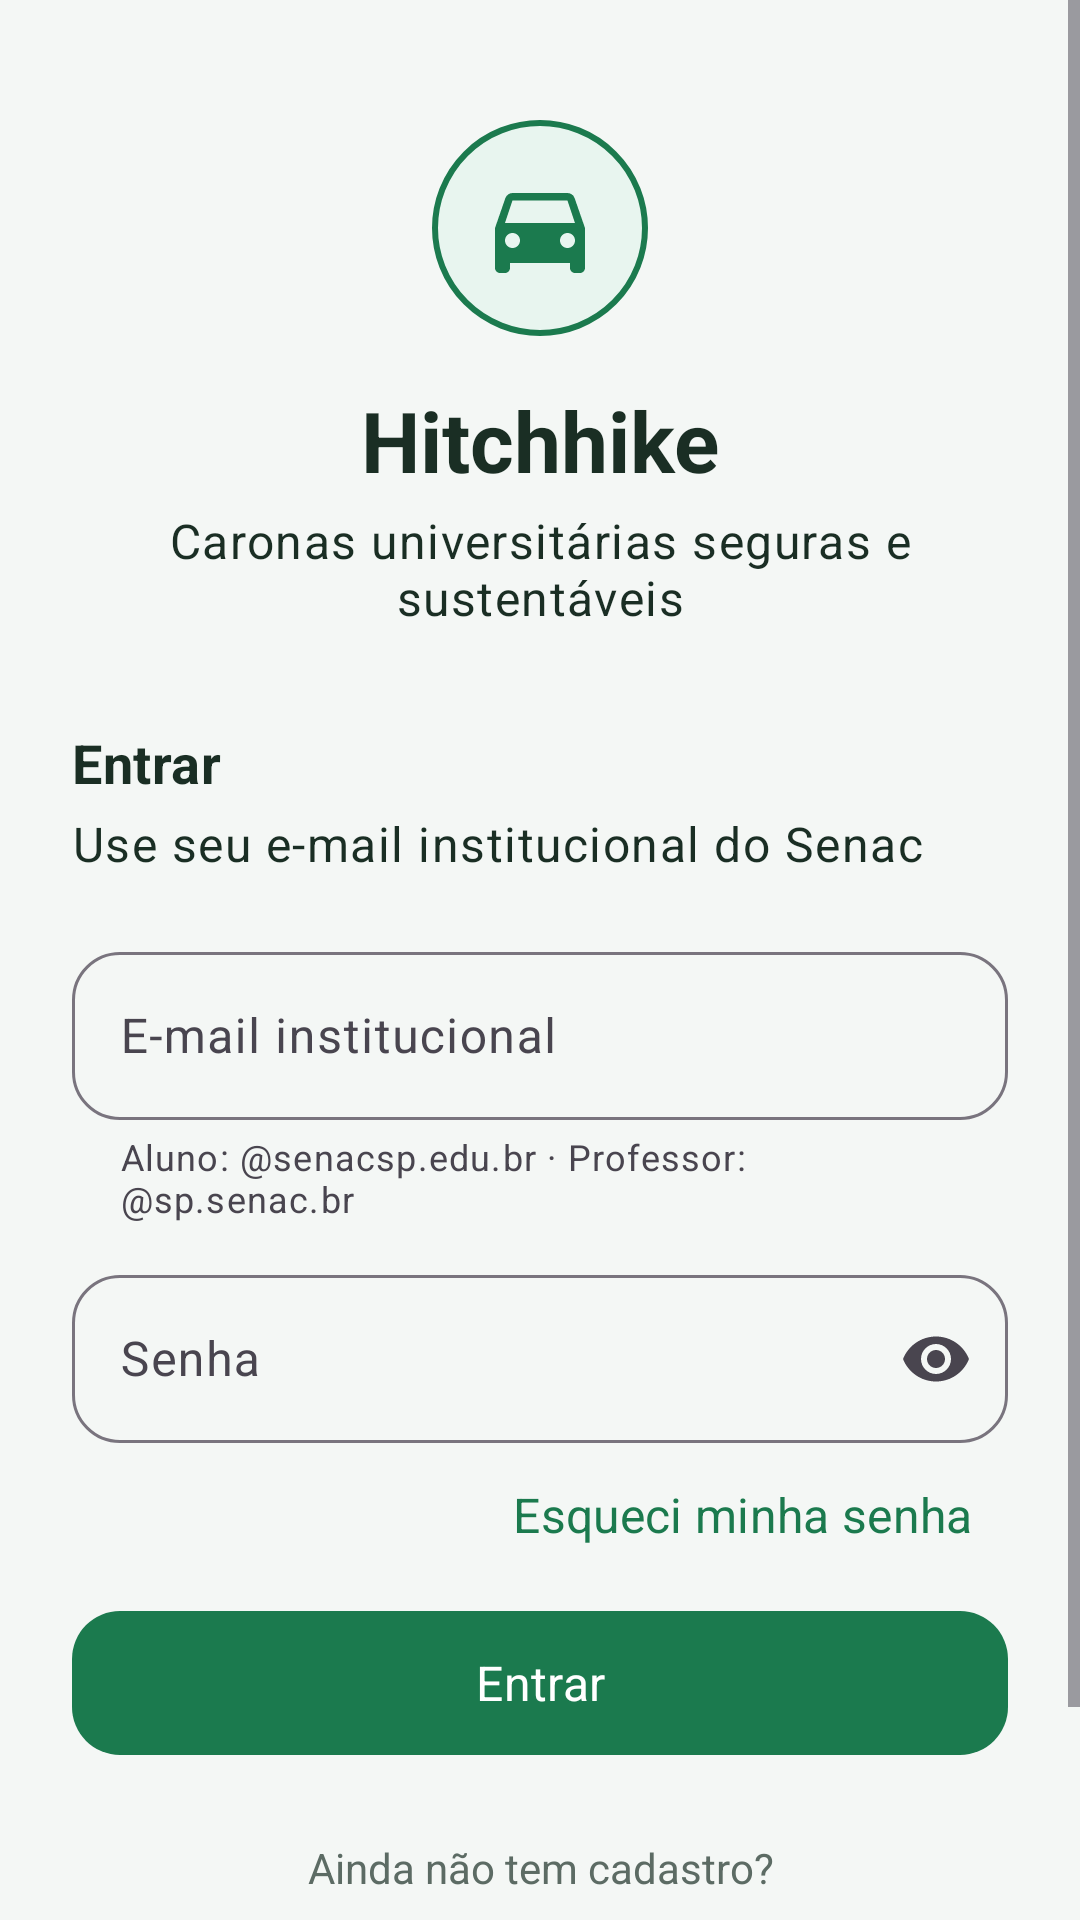

Where icons sit on this 1080w x 1920h app screen, as (x1, y1, x2, y2):
car: (432, 120, 648, 336)
